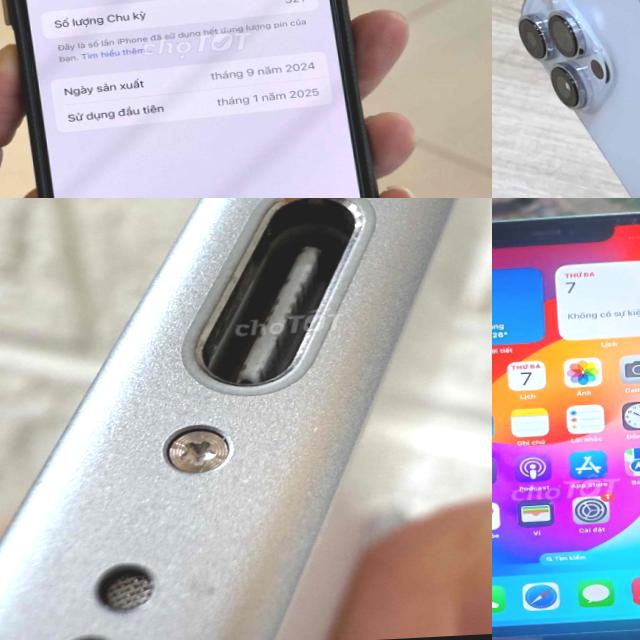gen_11: (492, 199, 640, 640)
gen_14: (497, 0, 640, 198)
gen_15: (0, 198, 492, 640), (0, 0, 386, 198)
